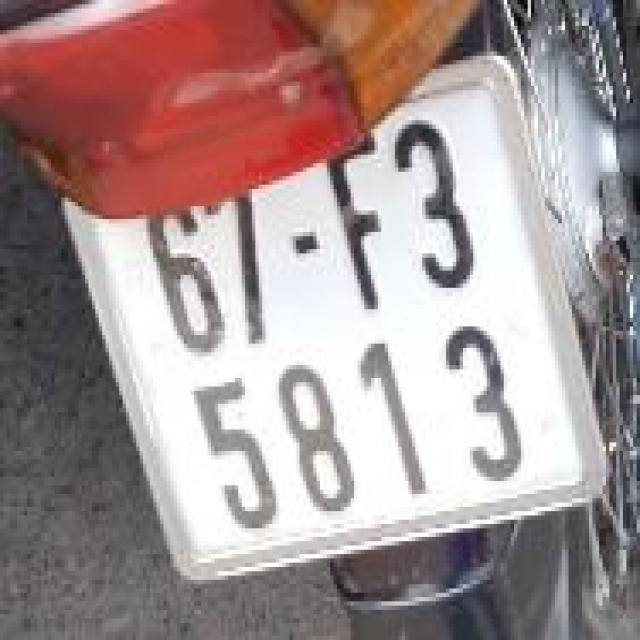1: (347, 329, 441, 514)
3: (431, 302, 539, 501), (381, 109, 487, 306)
5: (182, 363, 288, 540)
6: (130, 190, 237, 374)
7: (198, 157, 285, 360)
8: (264, 349, 368, 524)
F: (309, 125, 423, 329)
